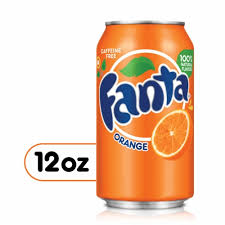can: (96, 21, 194, 209)
